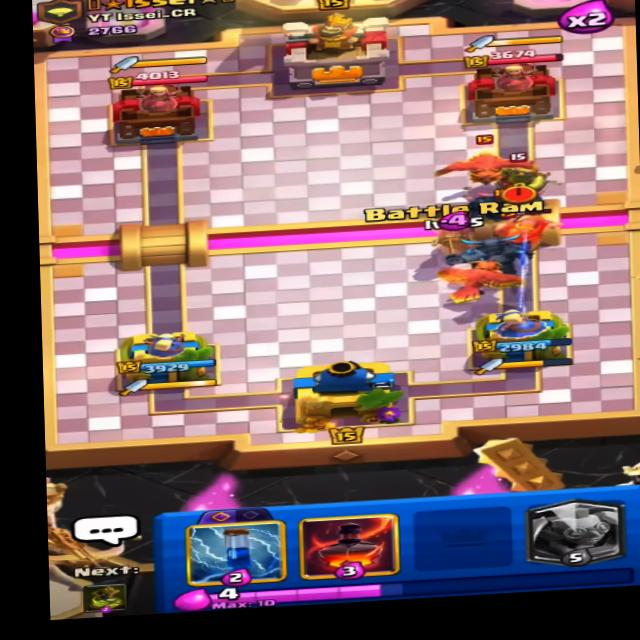goblin-demolisher: (490, 147, 554, 202)
knight: (494, 201, 565, 246)
pekka: (457, 172, 557, 224)
phoenix: (435, 132, 532, 185)
